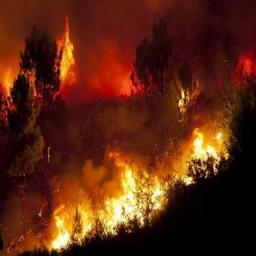Heavy smoke: (0, 0, 218, 145)
Large fire: (0, 17, 235, 256)
